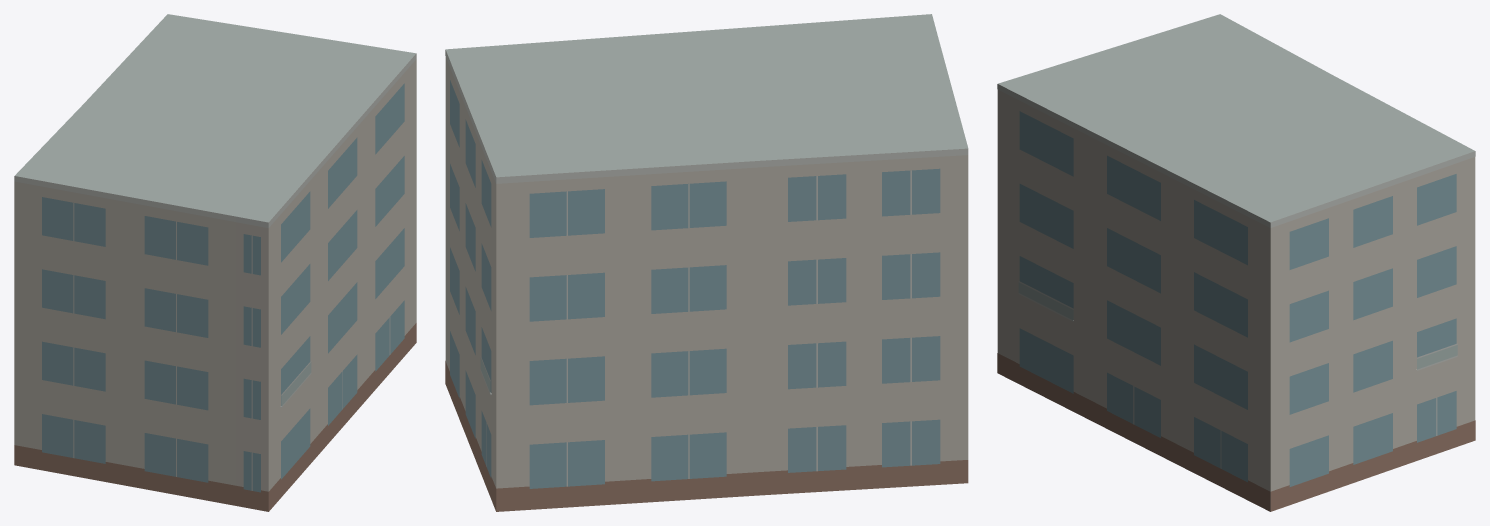
The model's file is survey-upis-32839564.glb.
3 views of the same model, side by side, from view 1: azimuth 30°, elevation 25°; view 2: azimuth 150°, elevation 25°; view 3: azimuth 270°, elevation 25° (orthographic). The views are drawn at different scales.
Visible parts, largest first — view 1: survey-upis-32839564.tmp; view 2: survey-upis-32839564.tmp; view 3: survey-upis-32839564.tmp.
Part boxes in pixels (x1,y1,x2,y2): survey-upis-32839564.tmp: (14, 14, 416, 511); survey-upis-32839564.tmp: (445, 14, 968, 511); survey-upis-32839564.tmp: (997, 14, 1475, 511).
Size of the model in its own units: 19.32 by 12.5 by 18.72.
